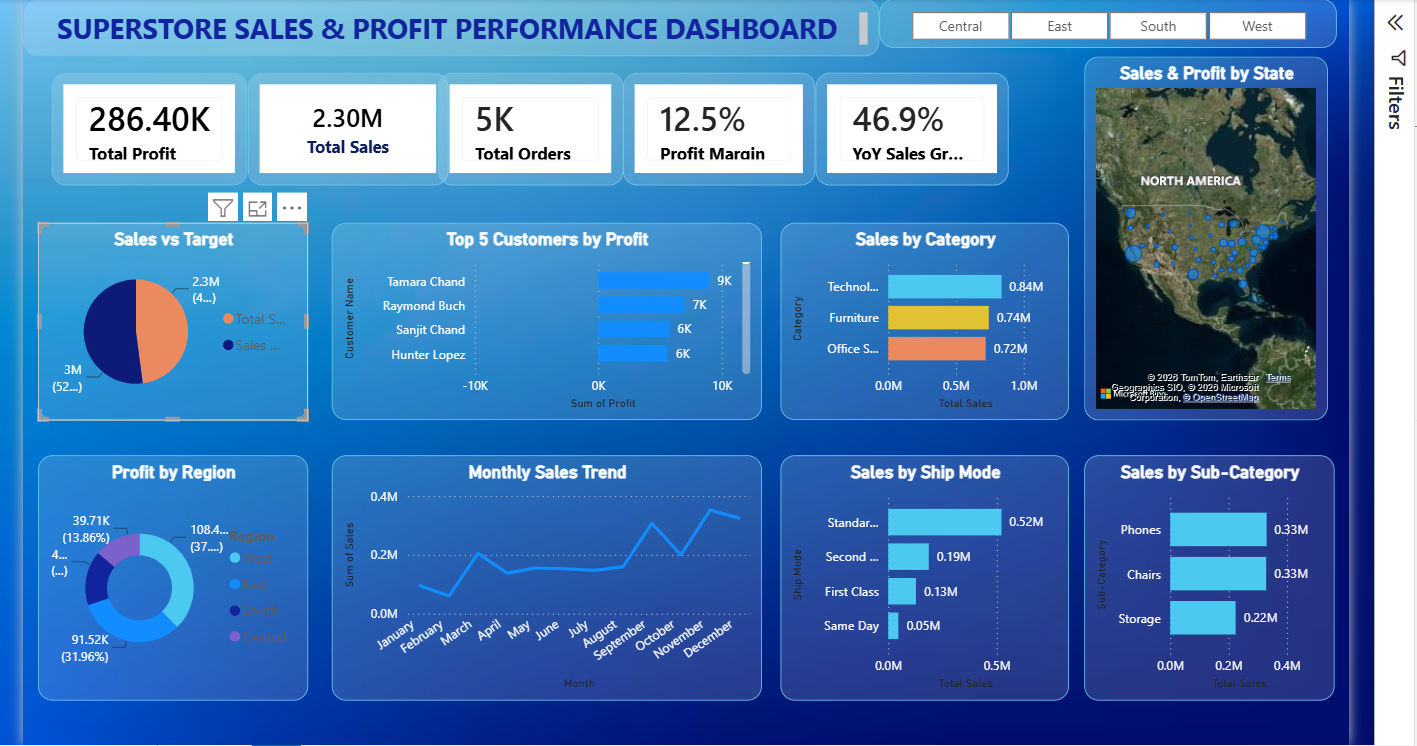

The dashboard page shown, as its layout file describes it:
{"tool":"powerbi","page":{"name":"Page 1","canvas":[1280,720],"ordinal":0},"visuals":[{"type":"clusteredBarChart","title":"Sales by Category","fields":{"Category":["Sample - Superstore.Category"],"Y":["Sample - Superstore.Total Sales"]},"box":[731.1,216,278.7,190.6],"z":0},{"type":"clusteredBarChart","title":"Sales by Sub-Category","fields":{"Category":["Sample - Superstore.Sub-Category"],"Y":["Sample - Superstore.Total Sales"]},"box":[1024.3,440.4,241.3,236.5],"z":1000},{"type":"clusteredBarChart","title":"Sales by Ship Mode","fields":{"Category":["Sample - Superstore.Ship Mode","Sample - Superstore.Sub-Category"],"Y":["Sample - Superstore.Total Sales"]},"box":[731.1,440.4,278.7,236.5],"z":2000},{"type":"lineChart","title":"Monthly Sales Trend","fields":{"Category":["Sample - Superstore.Order Date.Variation.Date Hierarchy.Year","Sample - Superstore.Order Date.Variation.Date Hierarchy.Quarter","Sample - Superstore.Order Date.Variation.Date Hierarchy.Month","Sample - Superstore.Order Date.Variation.Date Hierarchy.Day"],"Y":["Sum(Sample - Superstore.Sales)"]},"box":[298,440.4,415,236.5],"z":3000},{"type":"map","title":"Sales & Profit by State","fields":{"Category":["Sample - Superstore.State"],"Size":["Sum(Sample - Superstore.Sales)"]},"box":[1024.3,55.5,235.3,351.1],"z":4000},{"type":"donutChart","title":"Profit by Region","fields":{"Category":["Sample - Superstore.Region"],"Y":["Sample - Superstore.Total Profit"]},"box":[14.5,440.4,260.6,236.5],"z":5000},{"type":"pieChart","title":"Sales vs Target","fields":{"Y":["Sample - Superstore.Total Sales","Sample - Superstore.Sales Target"]},"box":[14.5,216,260.6,190.6],"z":6000},{"type":"clusteredBarChart","title":"Top 5 Customers by Profit","fields":{"Category":["Sample - Superstore.Customer Name"],"Y":["Sum(Sample - Superstore.Profit)"]},"box":[298,216,415,190.6],"z":7000},{"type":"textbox","box":[0,0,826.4,55.5],"z":8000},{"type":"cardVisual","fields":{"Data":["Sample - Superstore.Total Sales"]},"box":[216.7,71.1,193.3,108.9],"z":9000},{"type":"cardVisual","fields":{"Data":["Sample - Superstore.Total Profit"]},"box":[27.8,71.1,188.9,108.9],"z":10000},{"type":"cardVisual","fields":{"Data":["Sample - Superstore.Total Orders"]},"box":[400,71.1,178.9,108.9],"z":11000},{"type":"cardVisual","fields":{"Data":["Sample - Superstore.Profit Margin"]},"box":[578.9,71.1,185.6,108.9],"z":12000},{"type":"cardVisual","fields":{"Data":["Sample - Superstore.YoY Sales Growth"]},"box":[764.4,71.1,186.7,108.9],"z":13000},{"type":"slicer","fields":{"Values":["Sample - Superstore.Region"]},"box":[826.4,0,441.6,47.1],"z":14000}]}

Visuals, with their boxes on the page's 1280x720 design canvas (x1, y1, x2, y2). These are canvas units, not pixel positions in the 1417x746 screenshot, which may show the page scaled, cropped or inside an application window:
"Sales by Category" clusteredBarChart: pyautogui.locateOnScreen(731, 216, 1010, 407)
"Sales by Sub-Category" clusteredBarChart: pyautogui.locateOnScreen(1024, 440, 1266, 677)
"Sales by Ship Mode" clusteredBarChart: pyautogui.locateOnScreen(731, 440, 1010, 677)
"Monthly Sales Trend" lineChart: pyautogui.locateOnScreen(298, 440, 713, 677)
"Sales & Profit by State" map: pyautogui.locateOnScreen(1024, 56, 1260, 407)
"Profit by Region" donutChart: pyautogui.locateOnScreen(14, 440, 275, 677)
"Sales vs Target" pieChart: pyautogui.locateOnScreen(14, 216, 275, 407)
"Top 5 Customers by Profit" clusteredBarChart: pyautogui.locateOnScreen(298, 216, 713, 407)
textbox: pyautogui.locateOnScreen(0, 0, 826, 56)
cardVisual - Sample - Superstore.Total Sales: pyautogui.locateOnScreen(217, 71, 410, 180)
cardVisual - Sample - Superstore.Total Profit: pyautogui.locateOnScreen(28, 71, 217, 180)
cardVisual - Sample - Superstore.Total Orders: pyautogui.locateOnScreen(400, 71, 579, 180)
cardVisual - Sample - Superstore.Profit Margin: pyautogui.locateOnScreen(579, 71, 764, 180)
cardVisual - Sample - Superstore.YoY Sales Growth: pyautogui.locateOnScreen(764, 71, 951, 180)
slicer - Sample - Superstore.Region: pyautogui.locateOnScreen(826, 0, 1268, 47)
